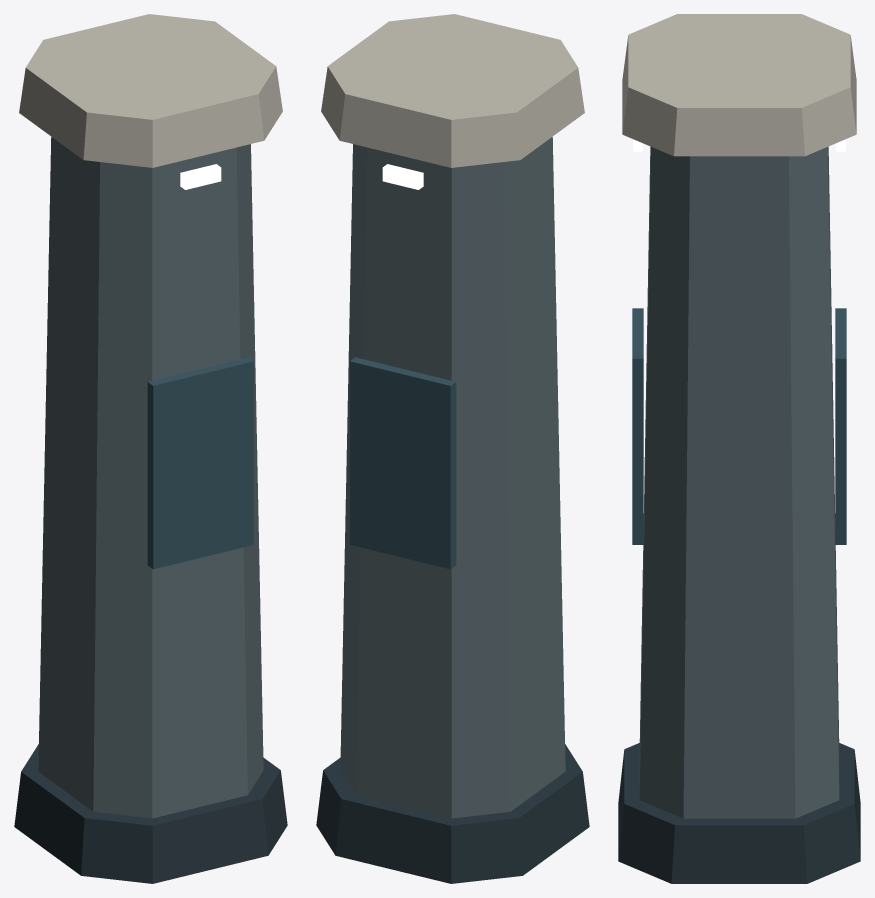
File: wall_t3_post.glb
3 views of the same model, side by side, from view 1: azimuth 30°, elevation 25°; view 2: azimuth 150°, elevation 25°; view 3: azimuth 270°, elevation 25° (orthographic).
Visible parts, largest first — view 1: body, glow; view 2: body, glow; view 3: body.
Boxes of the visible parts, bbox=[...] form: body: bbox=[14, 14, 287, 883]; glow: bbox=[180, 164, 221, 189]; body: bbox=[316, 14, 589, 883]; glow: bbox=[382, 164, 423, 189]; body: bbox=[618, 14, 860, 883].
Bounding box in the file's own units: 0.86 × 3.02 × 0.86.
